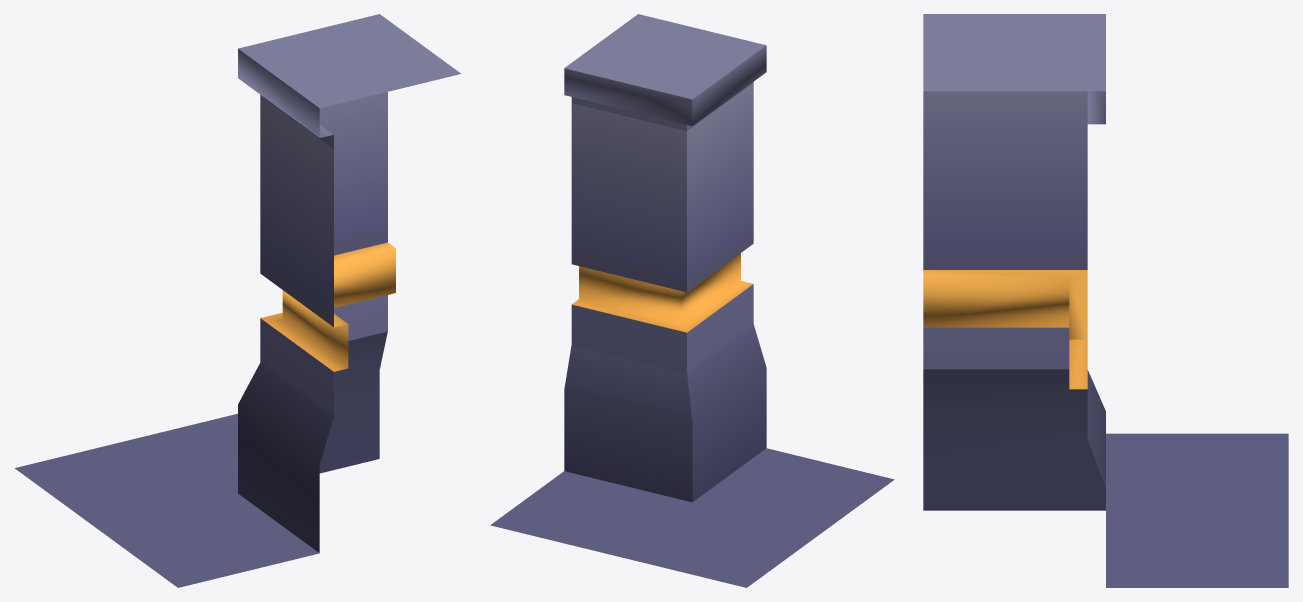
Rendered from structure-corner-outer.glb.
3 renders of one model, left to right at view 1: azimuth 30°, elevation 25°; view 2: azimuth 150°, elevation 25°; view 3: azimuth 270°, elevation 25°, orthographic. The views are drawn at different scales.
Visible parts, largest first — view 1: structure-corner-outer; view 2: structure-corner-outer; view 3: structure-corner-outer.
Part boxes in pixels (bbox=[...]): structure-corner-outer: bbox=[15, 14, 460, 587]; structure-corner-outer: bbox=[490, 14, 894, 587]; structure-corner-outer: bbox=[923, 14, 1288, 587].
Size of the model in its own units: 2 by 3 by 2.
